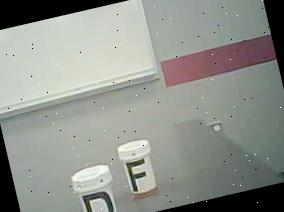Bottle D: (65, 160, 124, 212)
Bottle F: (110, 132, 170, 206)
